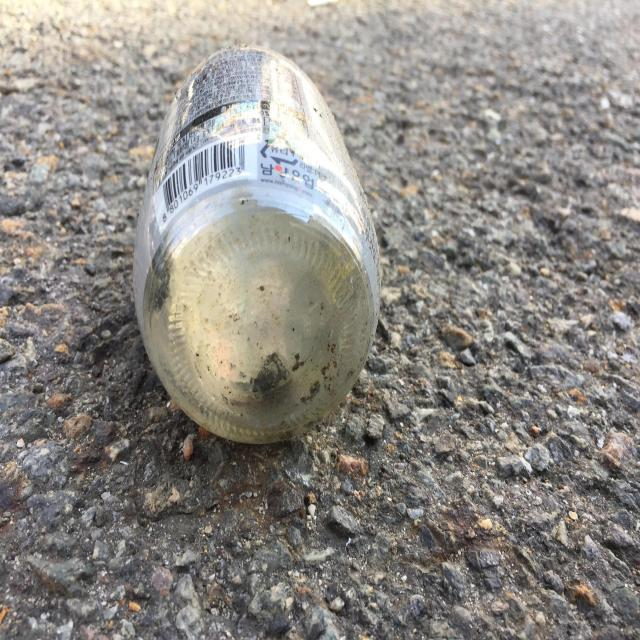glass: (133, 46, 381, 444)
